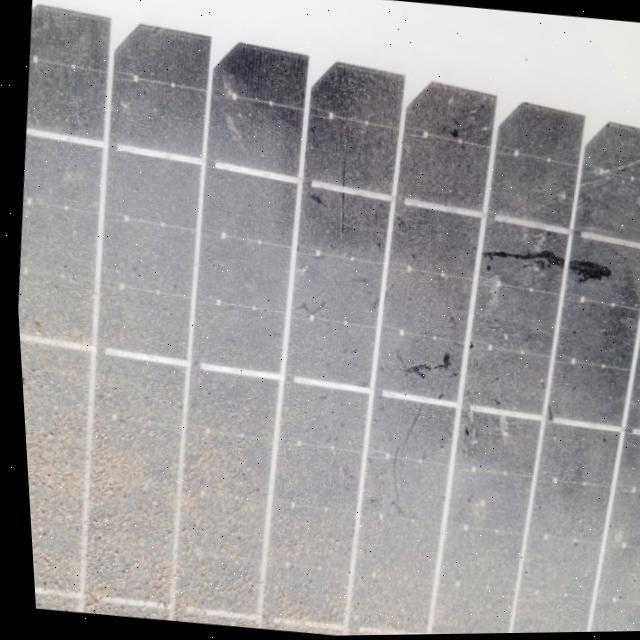Anomaly Solar Panel: (43, 6, 640, 640)
Surface Contaminant: (71, 13, 640, 635)
